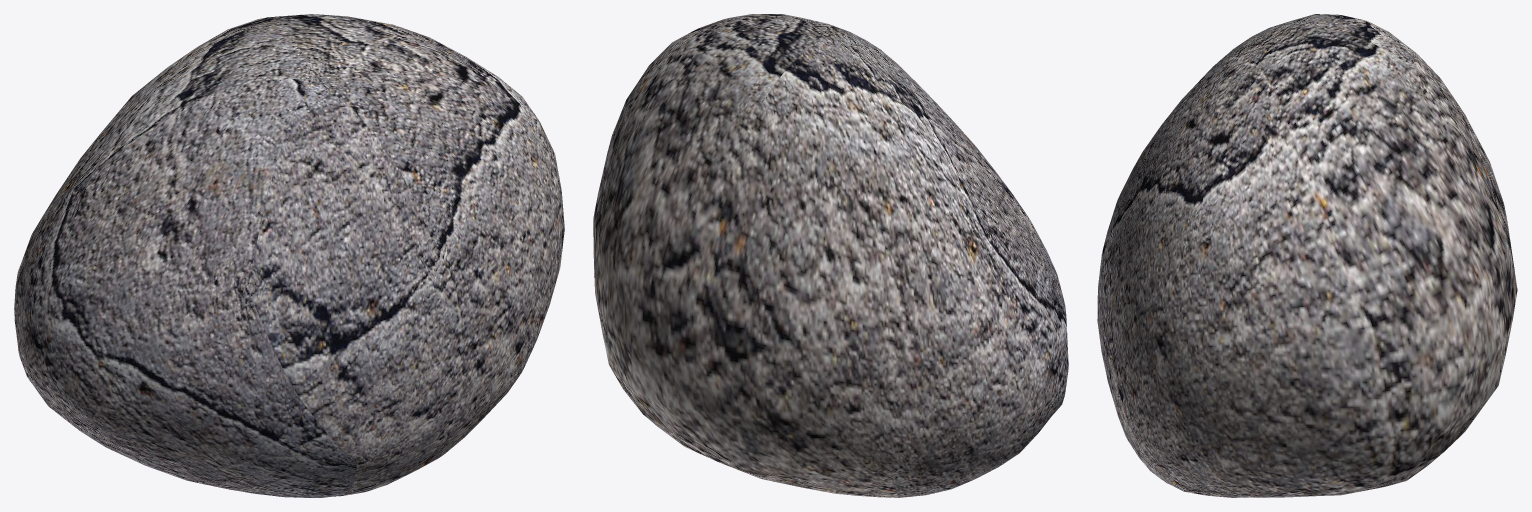
The model's file is stonemesh.fbx.
The picture shows the model from 3 angles, left to right: view 1: azimuth 30°, elevation 25°; view 2: azimuth 150°, elevation 25°; view 3: azimuth 270°, elevation 25°; orthographic projection. The views are drawn at different scales.
Parts seen in each view (by area): view 1: Икосфера; view 2: Икосфера; view 3: Икосфера.
Boxes of the visible parts, box(x1,y1,x2,y2) form: Икосфера: box(14, 14, 564, 497); Икосфера: box(593, 14, 1068, 497); Икосфера: box(1097, 14, 1517, 497).
Bounding box in the file's own units: 18.55 × 16.62 × 13.88.
